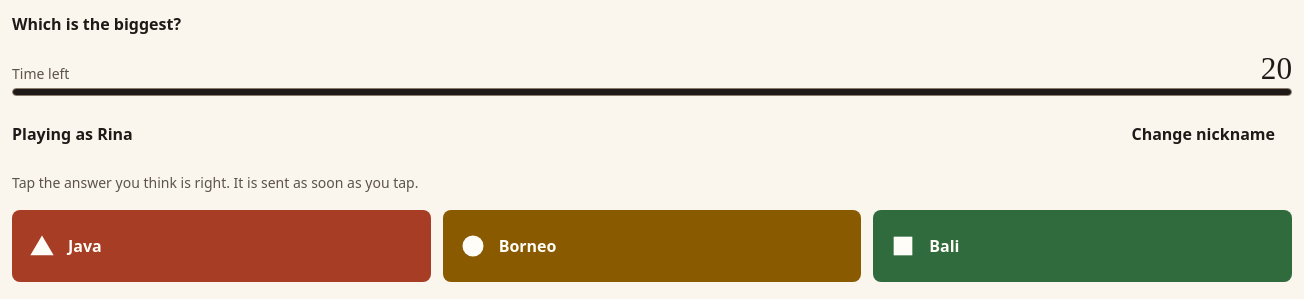
Test case: offers no change once an answer is sent
This screenshot has width=1304, height=299.
Click the button "Borneo": x=528, y=246 [443,210,861,282]
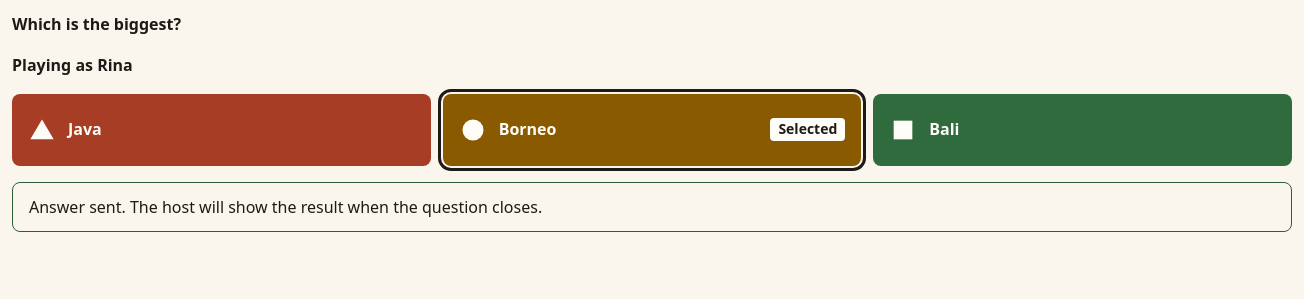
Check: the text "Playing as Rina" is shown, box [12,53,133,78]
Check: the text "Answer sent. The host will show the result when the question closes." is shown, box [12,182,1292,232]
Check: the button "Change nickname" is gone
